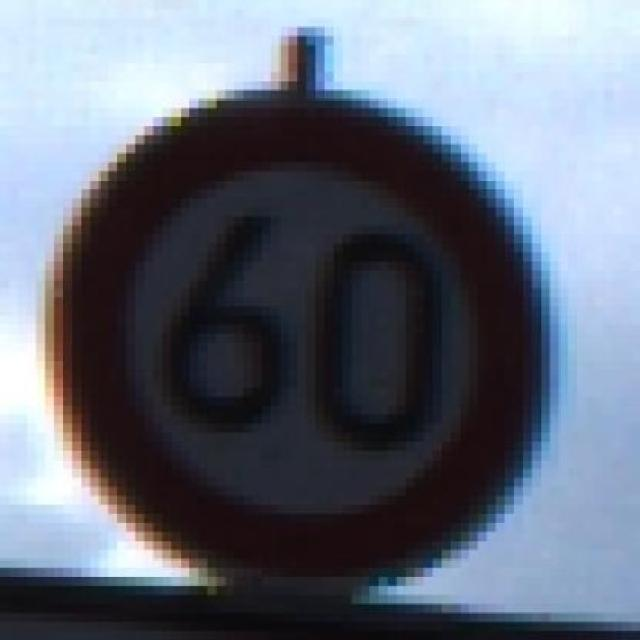forb_speed_over_60: (52, 91, 543, 582)
